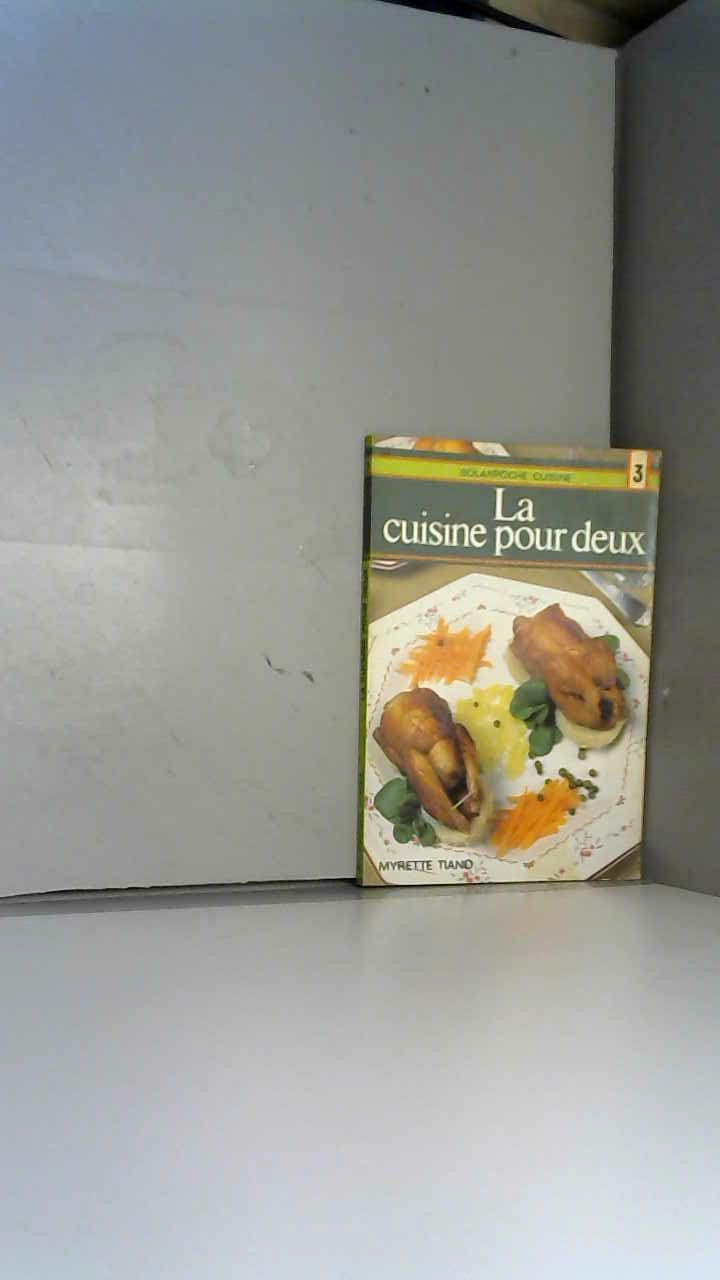book: (330, 410, 720, 937)
